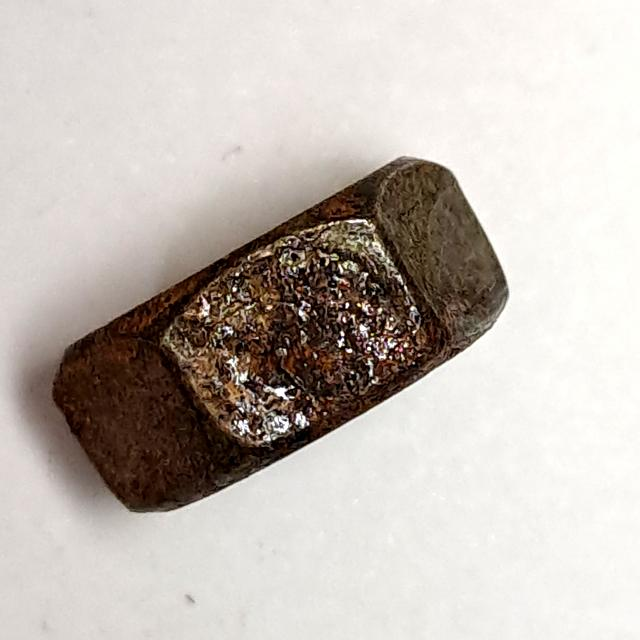Side_Rust: (43, 143, 521, 526)
